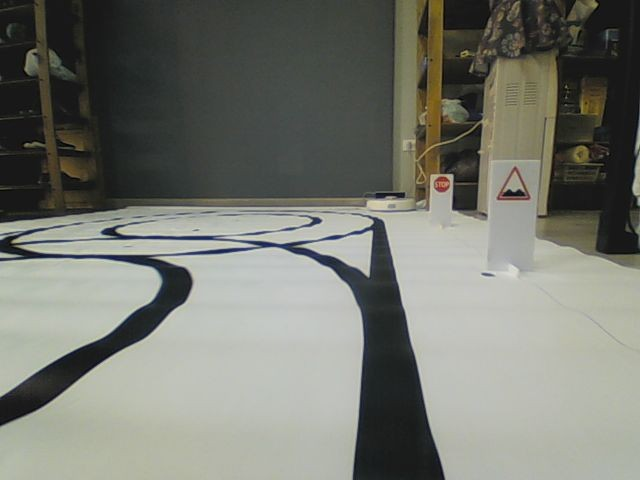Nerov: (495, 166, 531, 202)
Stop: (433, 176, 450, 193)
